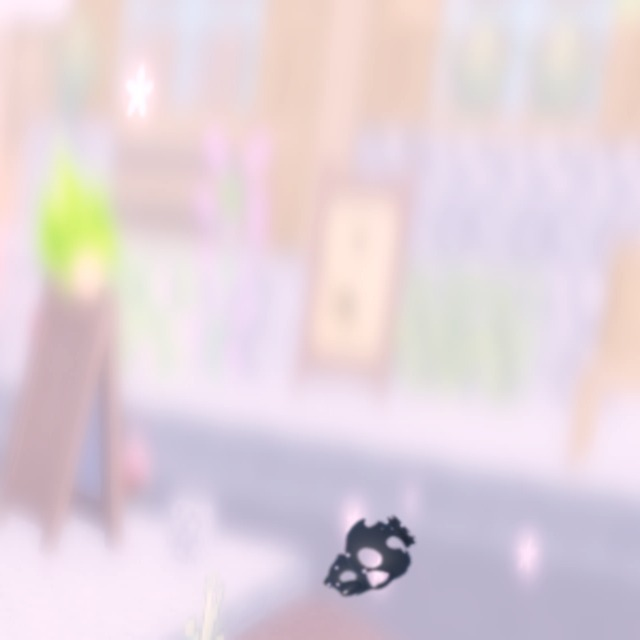urso_preto: (299, 495, 431, 626)
